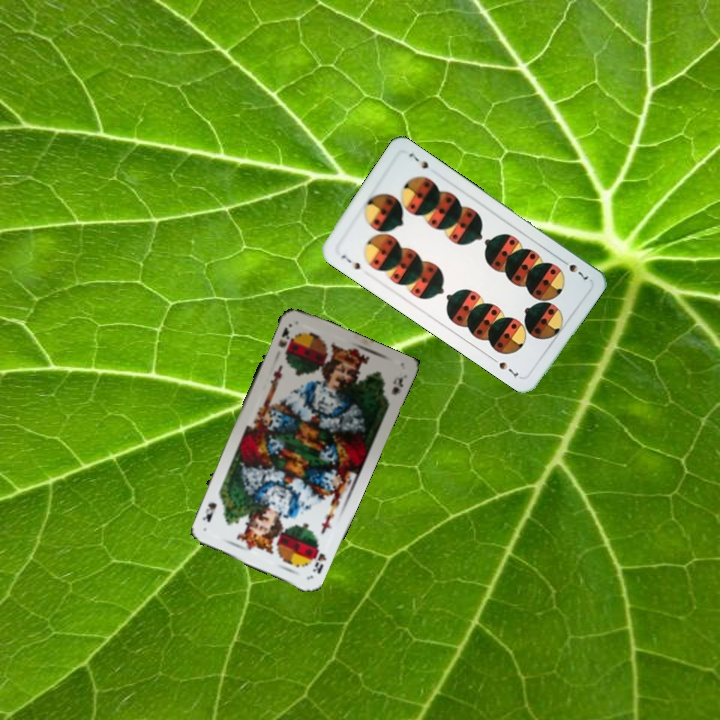S7: (556, 255, 591, 283), (337, 250, 363, 272)
SK: (306, 539, 329, 576), (274, 323, 295, 357)
